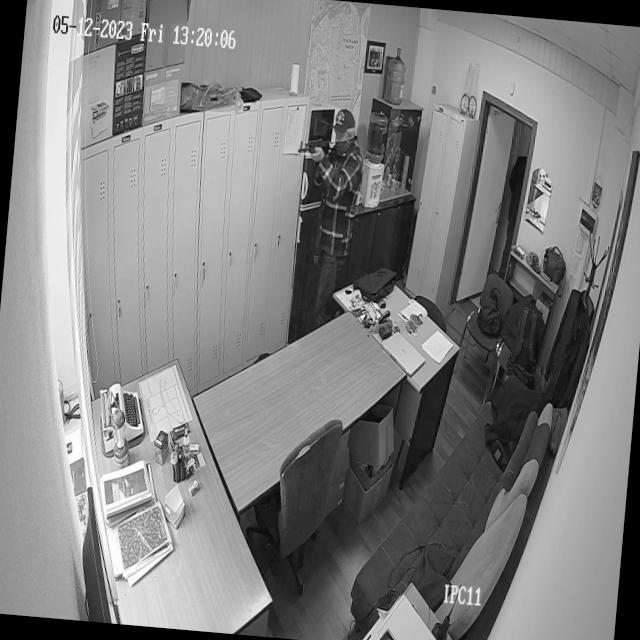gun: (296, 133, 334, 158)
person with a gun: (281, 102, 362, 314)
